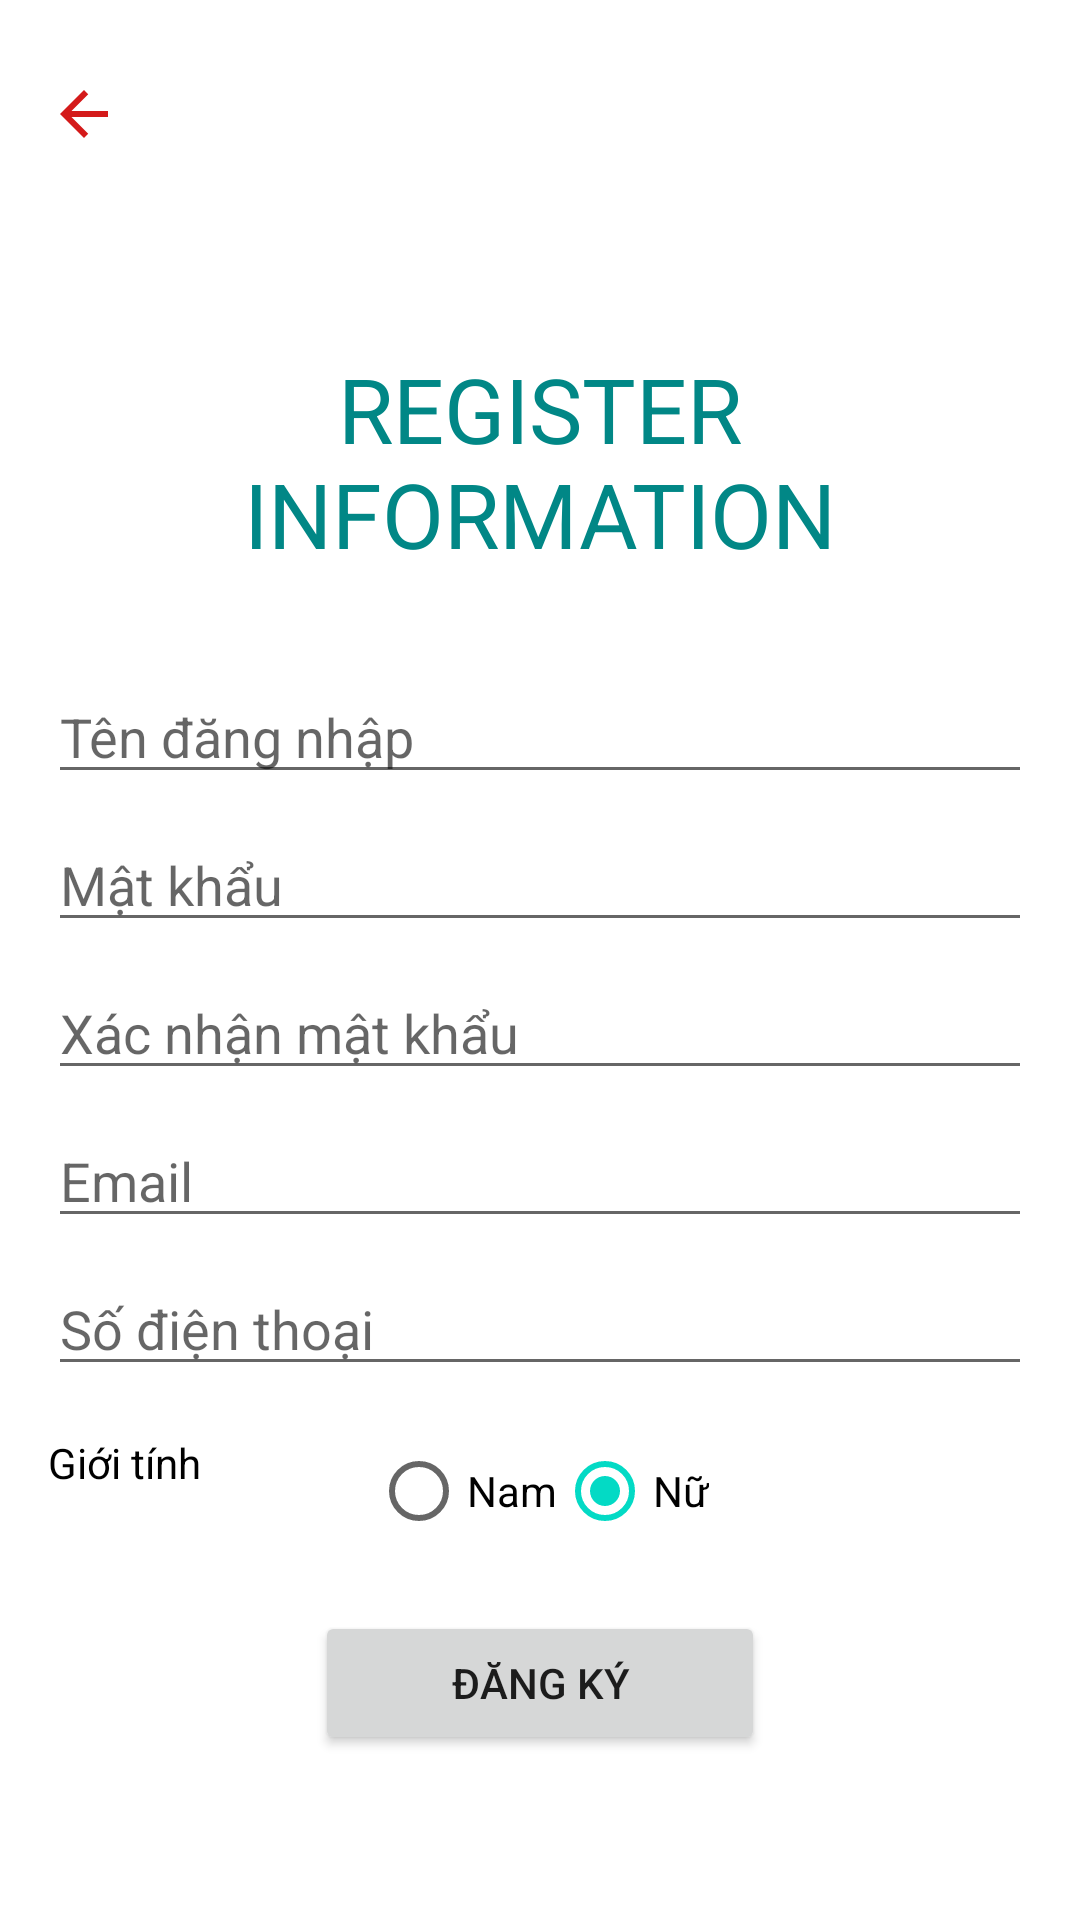

Screen size 1080*1920. Icon name, then its center in pixels as point (x, y):
arrow back: point (84, 114)
